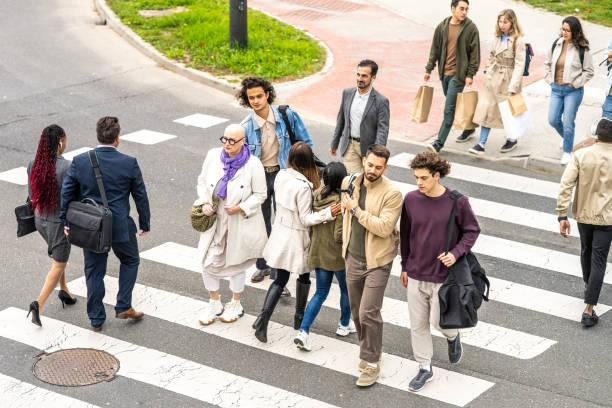coat: (194, 145, 269, 264), (264, 169, 335, 275), (472, 31, 529, 126), (306, 186, 348, 272)
jacket: (58, 146, 151, 234), (341, 175, 405, 267), (555, 140, 612, 227), (237, 103, 311, 167), (331, 86, 391, 158), (424, 15, 480, 82), (23, 156, 72, 224), (541, 35, 596, 89)
short sleeve shirt: (252, 109, 283, 170), (349, 86, 372, 140), (444, 20, 461, 75)
skirt: (34, 217, 70, 264)
sweater: (400, 187, 481, 285)
trousers: (345, 255, 393, 365), (86, 229, 142, 320), (406, 274, 459, 363), (299, 263, 350, 339), (577, 219, 612, 308), (546, 81, 584, 157), (432, 74, 470, 148), (341, 137, 373, 182)
